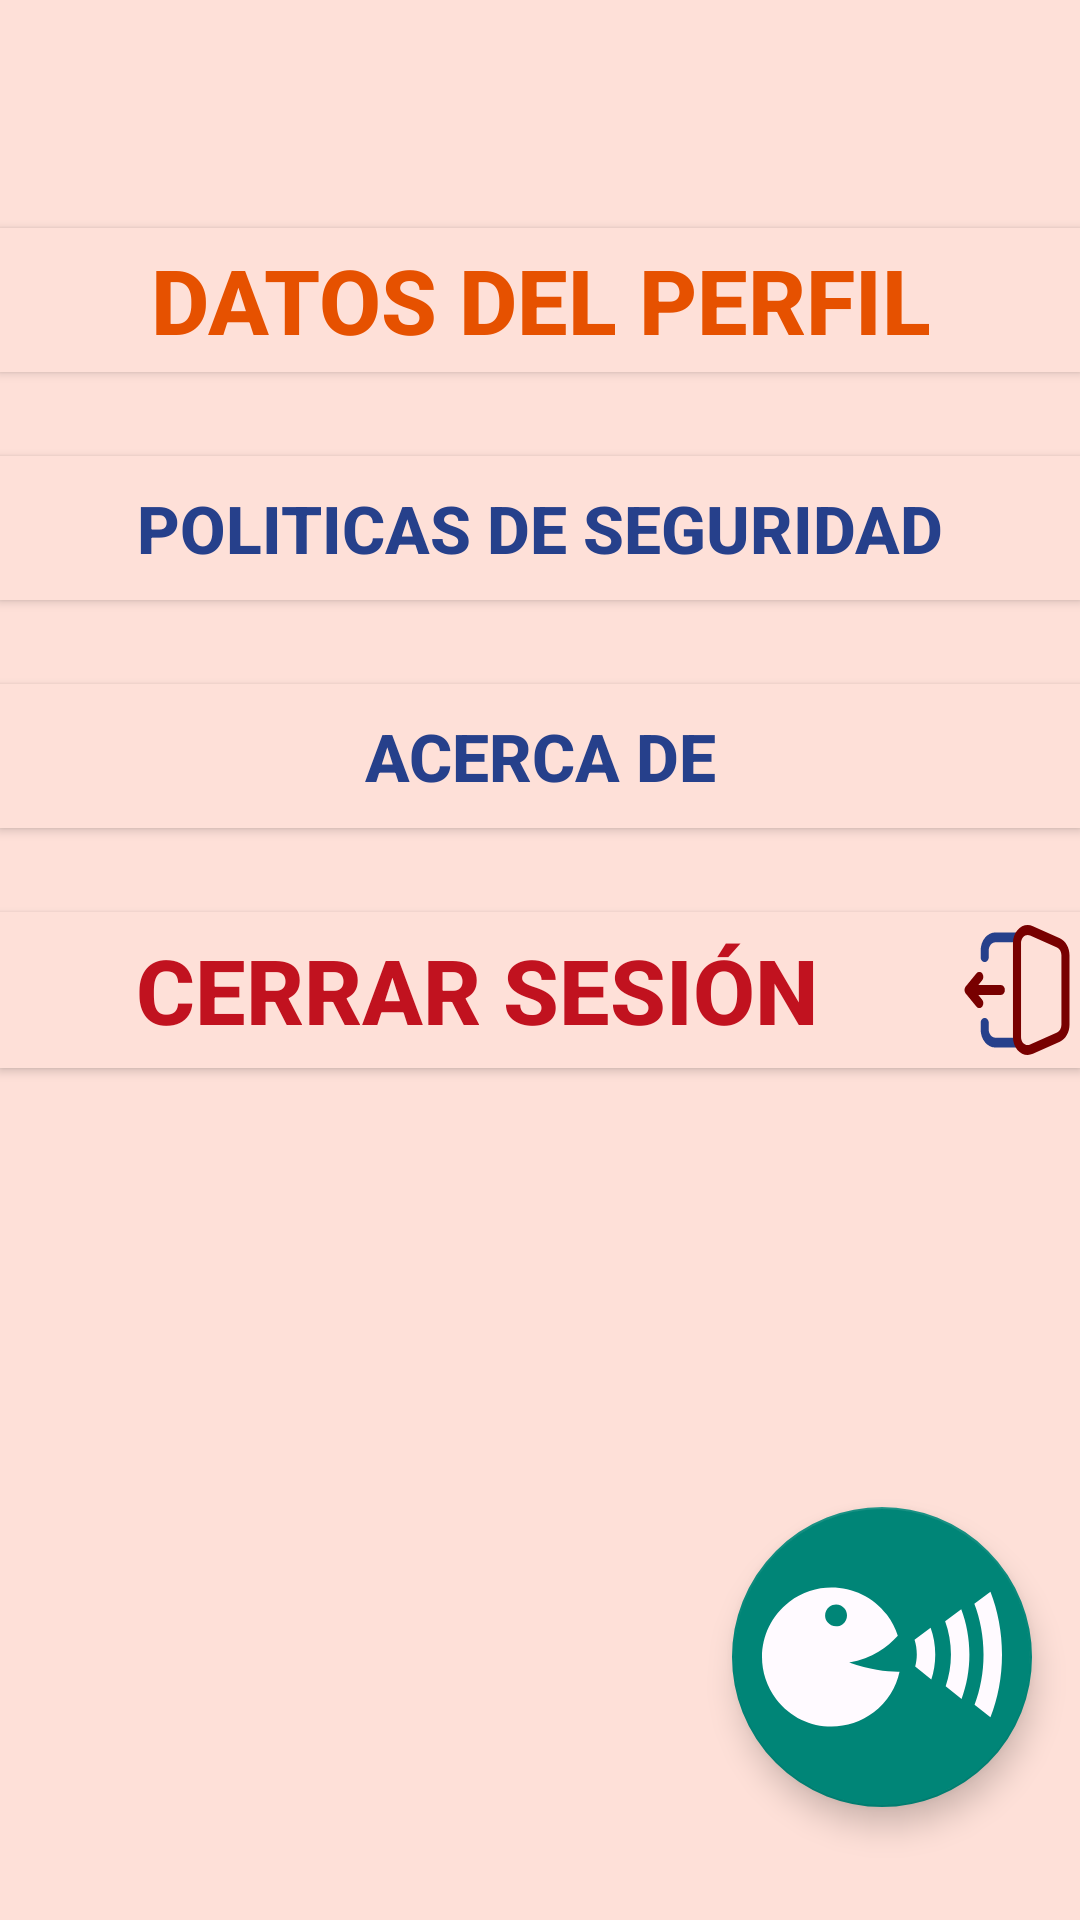

Named icons in this screenshot (1080x1920) and their centers, [x,y]:
Activar comandos de voz: [882,1657]
